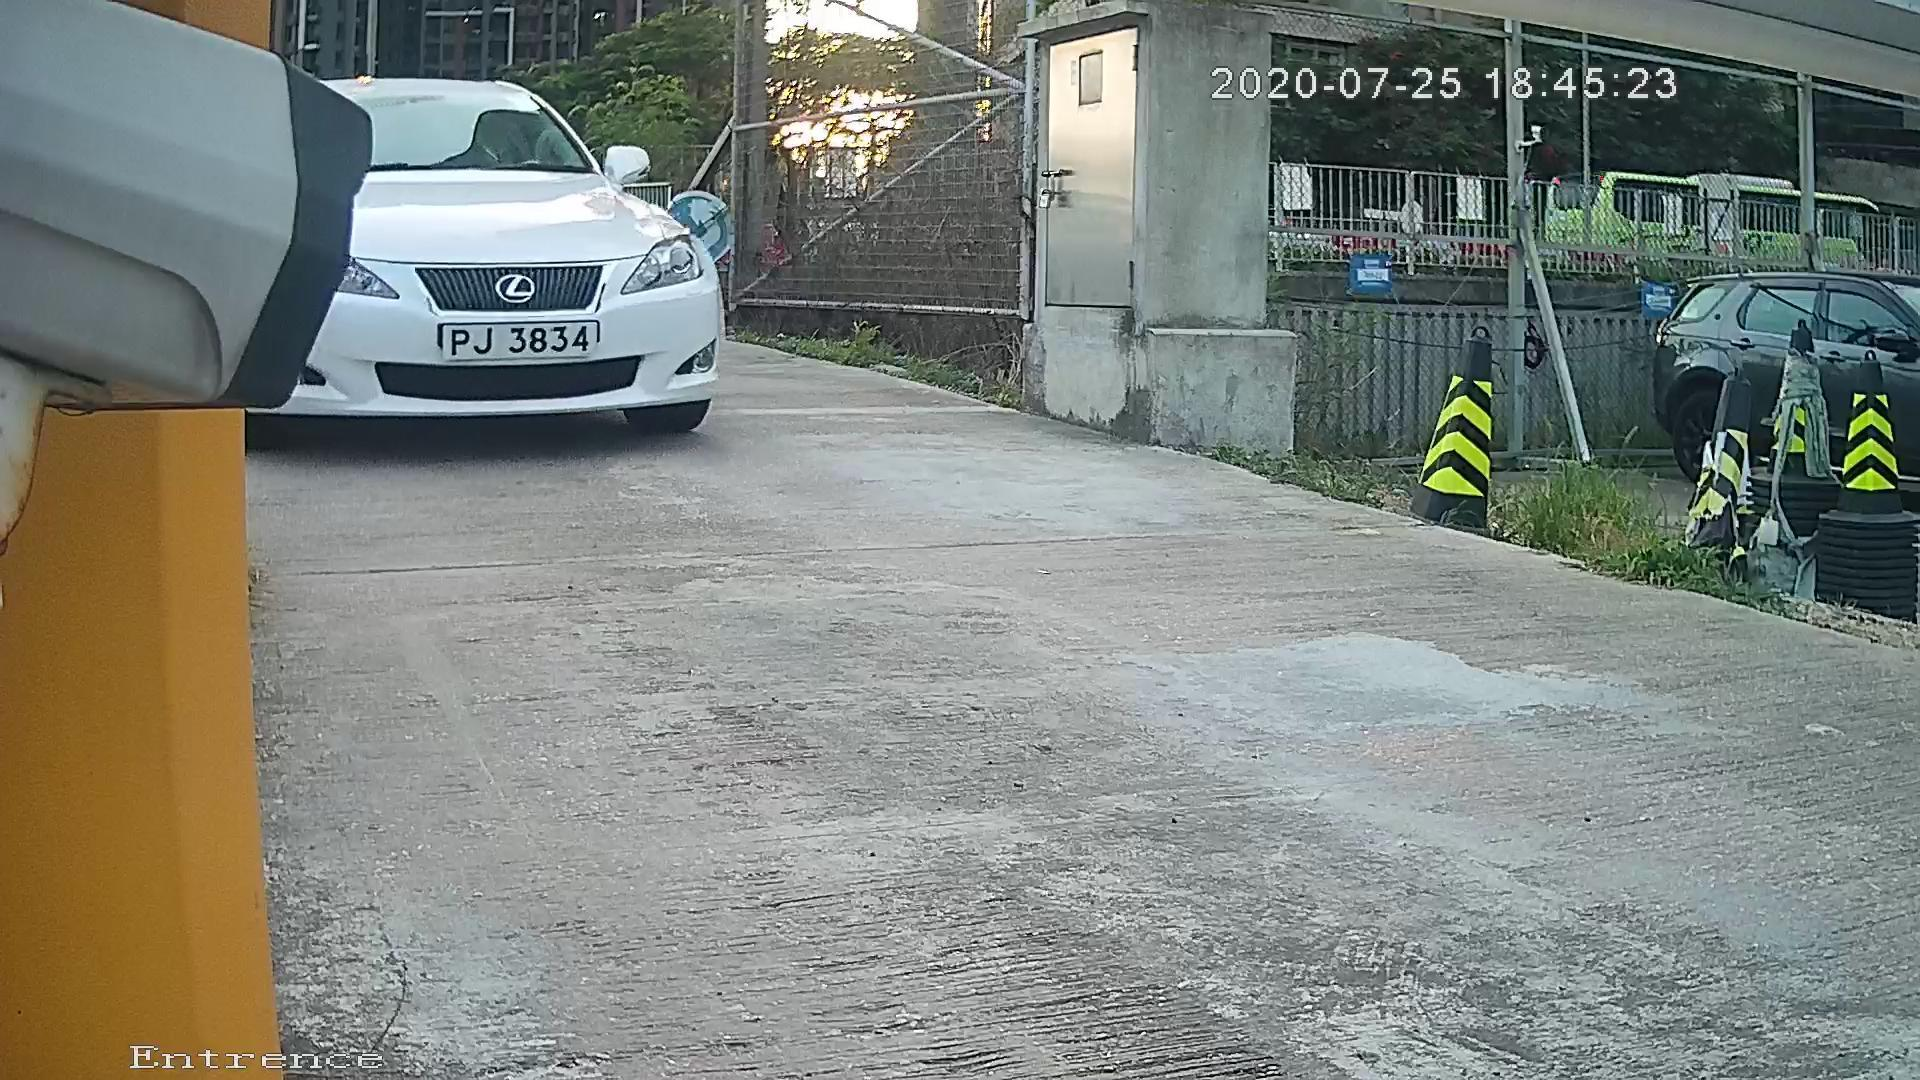privatecar: (171, 5, 789, 473)
